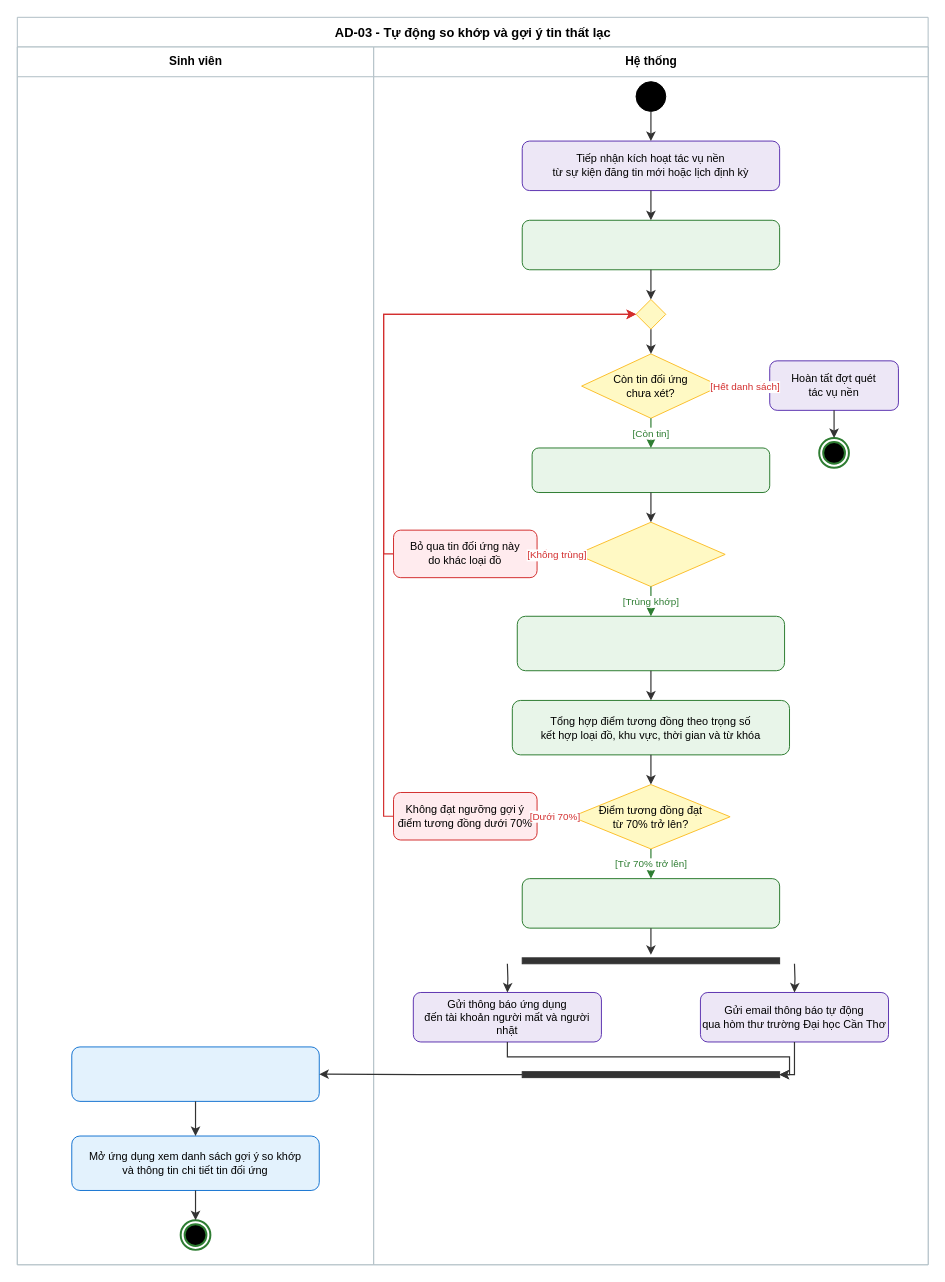
The diagram is 945 pixels wide and 1282 high, and some of its shapes have lost their labels. The shapes that lost their labels are listed below. From the top down, each one's centre as x and y in pixels, then its label:
point (650, 244): Lấy thông tin tin đăng mục tiêu và truy vấn danh sách tin đối ứng đang mở
point (650, 470): Lấy tin đối ứng tiếp theo trong danh sách để đối soát
point (650, 554): Trùng khớp loại đồ danh mục?
point (650, 643): So khớp khu vực xảy ra, thời gian thất lạc và trích xuất từ khóa tiêu đề, mô tả
point (650, 903): Ghi nhận cặp tin khớp và lưu điểm tương đồng vào cơ sở dữ liệu
point (195, 1073): Nhận thông báo có tin thất lạc tương đồng qua ứng dụng di động hoặc email
